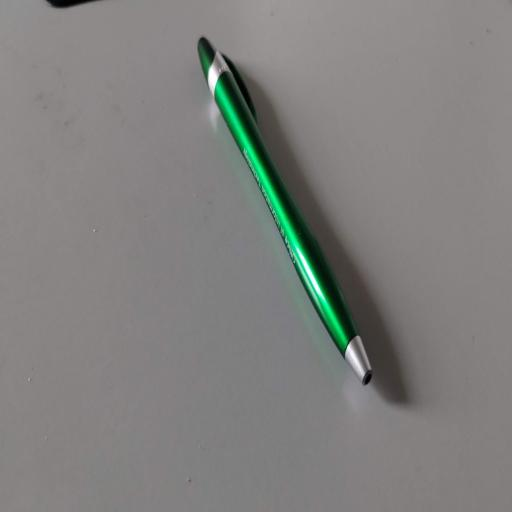pen: (199, 38, 372, 384)
